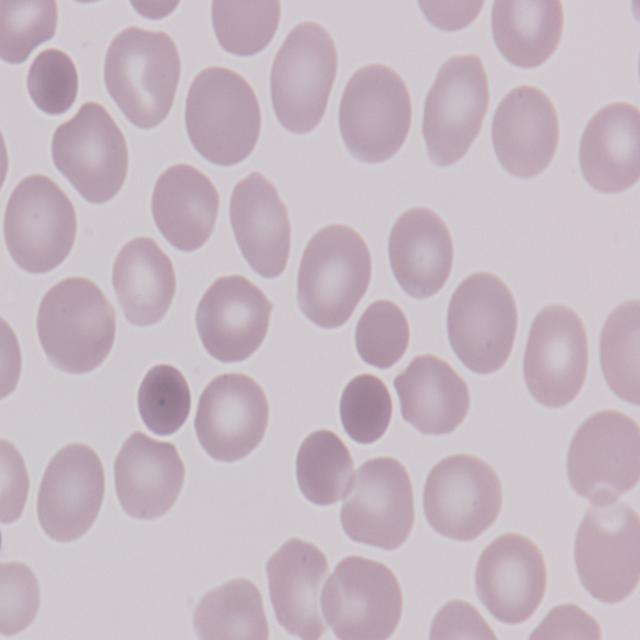RBC: (419, 46, 494, 170), (268, 14, 340, 141), (98, 25, 182, 132), (181, 62, 264, 169), (291, 218, 373, 326), (48, 102, 133, 206), (0, 168, 78, 280), (34, 275, 118, 379), (338, 456, 418, 559), (338, 61, 414, 168), (418, 451, 506, 541), (522, 304, 595, 412), (444, 270, 519, 374), (572, 497, 640, 610), (192, 272, 272, 368), (194, 366, 272, 464), (32, 444, 108, 544), (471, 532, 549, 628), (318, 553, 402, 640), (565, 409, 640, 506), (264, 537, 334, 640), (488, 82, 560, 182), (381, 205, 455, 302), (146, 162, 222, 255), (108, 434, 186, 524), (224, 171, 290, 277), (106, 234, 176, 333), (391, 354, 471, 439), (574, 100, 640, 198), (486, 0, 566, 72), (192, 572, 272, 640), (593, 298, 640, 410), (204, 0, 282, 59), (0, 0, 61, 67), (421, 598, 506, 640), (0, 559, 42, 640), (0, 433, 32, 530), (523, 604, 609, 640), (407, 0, 487, 36), (0, 302, 25, 410)
Spherocyte: (290, 426, 354, 509), (131, 363, 191, 444), (336, 370, 396, 446), (354, 295, 412, 373), (26, 48, 81, 118)
